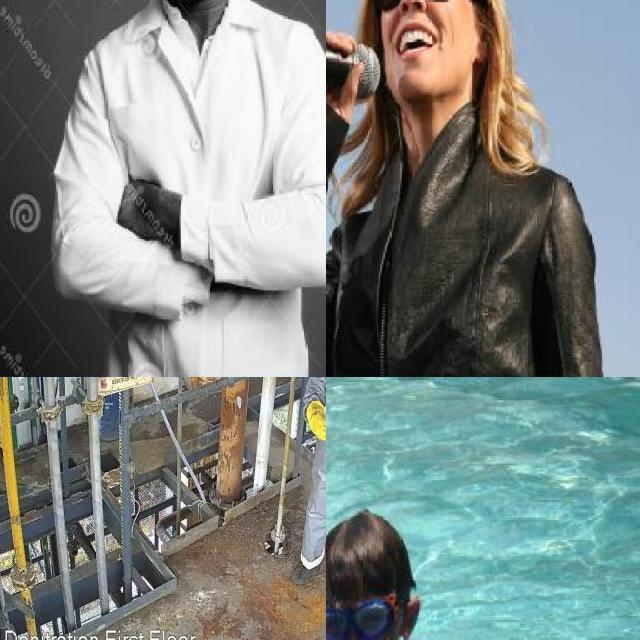face_nomask: (377, 0, 456, 74)
glasses: (326, 606, 410, 640), (365, 0, 491, 19)
hand_glove: (308, 404, 326, 443)
hand_noglove: (326, 25, 365, 102)
head_nohelmet: (326, 507, 401, 568)
person: (50, 0, 326, 377), (326, 0, 591, 377), (326, 513, 458, 640), (287, 377, 326, 599)
shoes: (289, 553, 322, 587)
